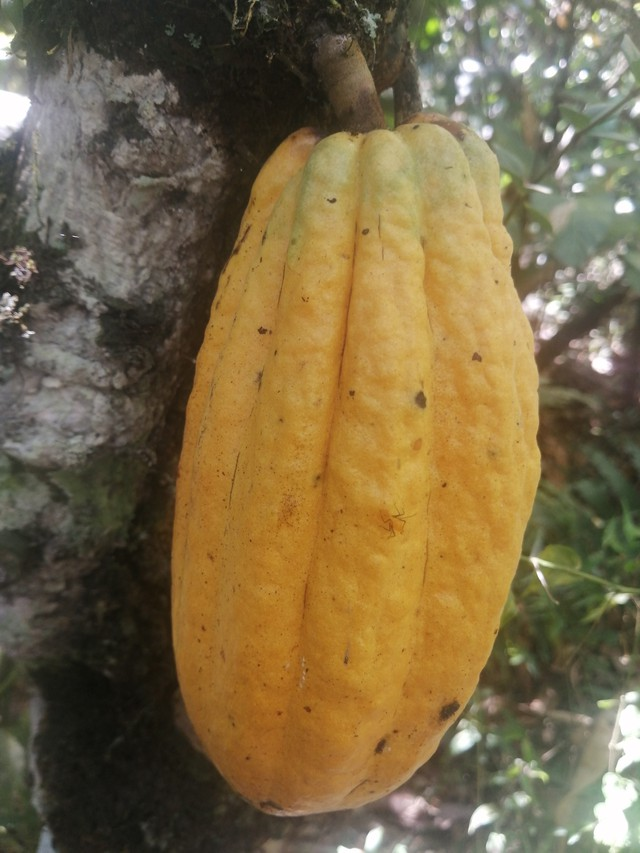Health: (132, 84, 575, 828)
